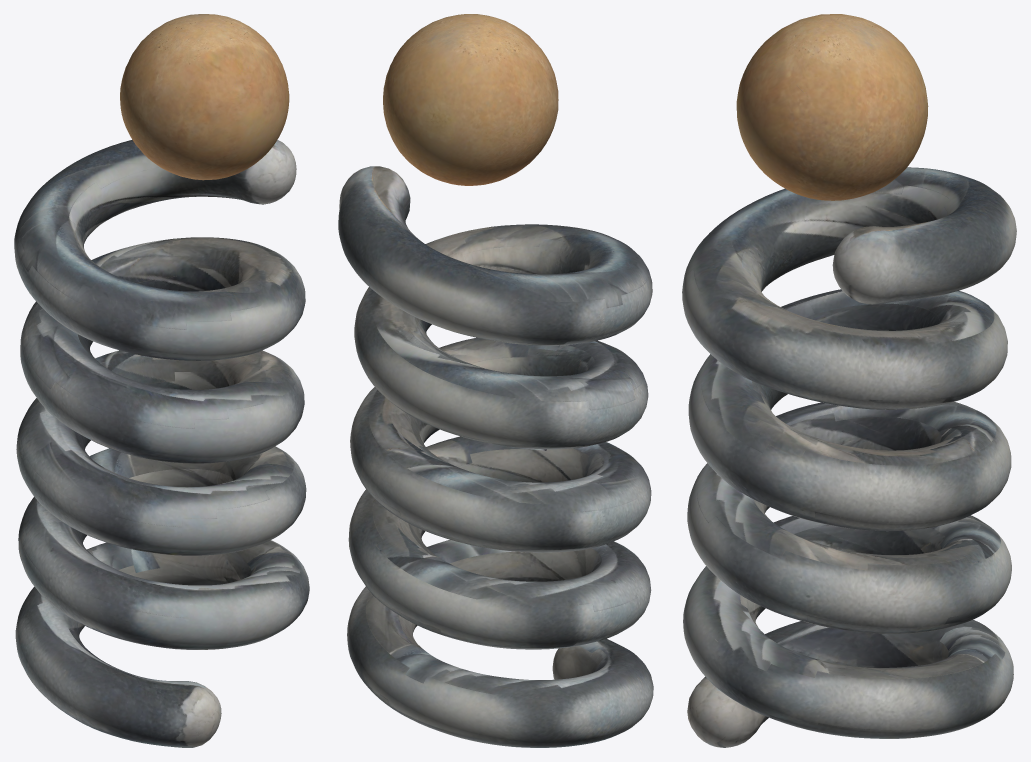
The model's file is asset.glb.
The picture shows the model from 3 angles, left to right: view 1: azimuth 30°, elevation 25°; view 2: azimuth 150°, elevation 25°; view 3: azimuth 270°, elevation 25°; orthographic projection. The views are drawn at different scales.
Bounding box in the file's own units: 0.8317 × 2 × 0.8009.
Materials: 1 (1 with a texture image).
